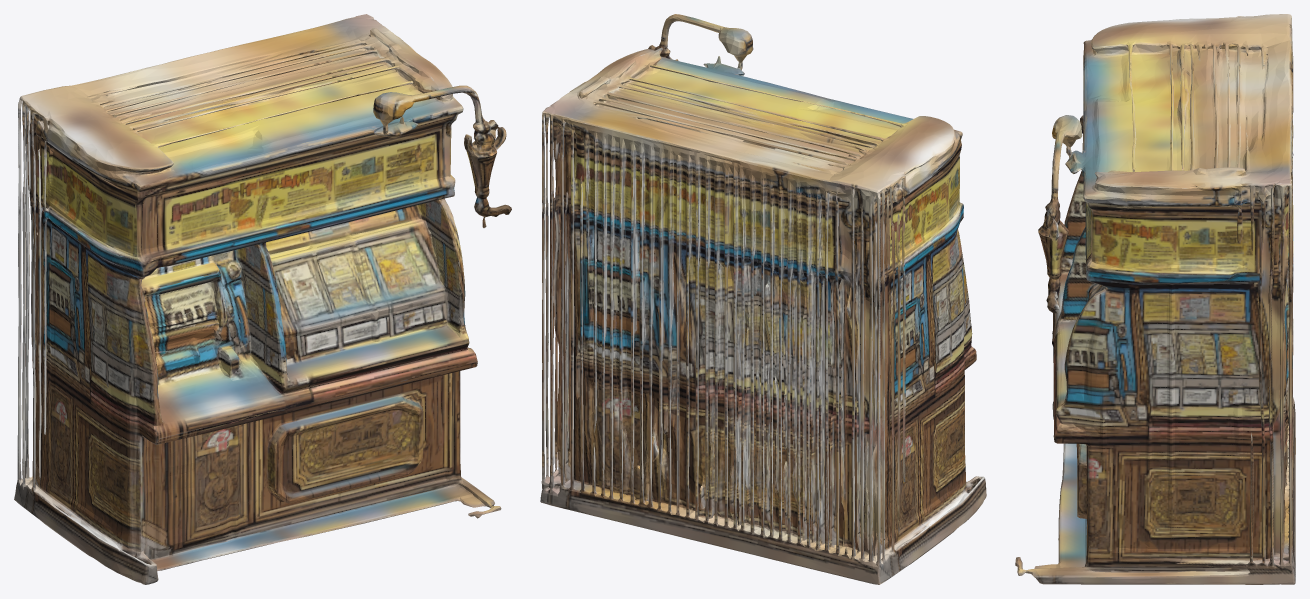
File: counter.glb
3 views of the same model, side by side, from view 1: azimuth 30°, elevation 25°; view 2: azimuth 150°, elevation 25°; view 3: azimuth 270°, elevation 25° (orthographic). The views are drawn at different scales.
Visible parts, largest first — view 1: counter; view 2: counter; view 3: counter.
Boxes of the visible parts, x1,y1,x2,y2 form: counter: [14, 14, 511, 584]; counter: [540, 14, 986, 584]; counter: [1015, 14, 1295, 584].
Bounding box in the file's own units: 1.46 × 1.58 × 0.9468.
1 material, 1 textured.
